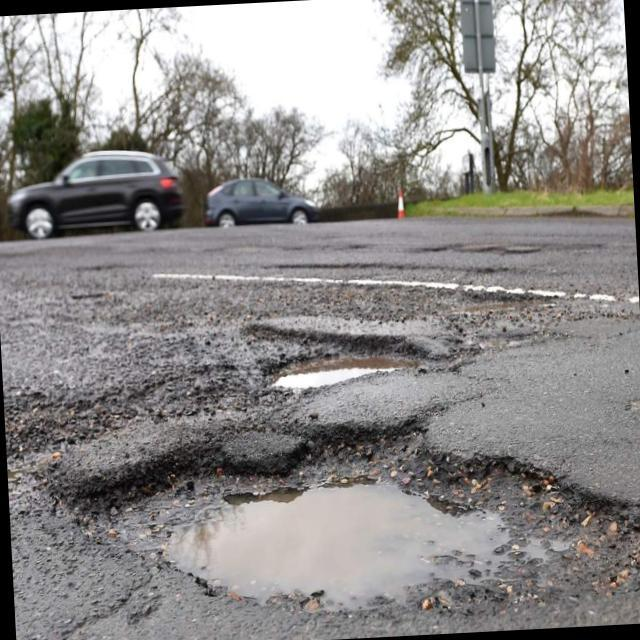Pothole: (80, 393, 640, 640), (236, 311, 459, 381)
